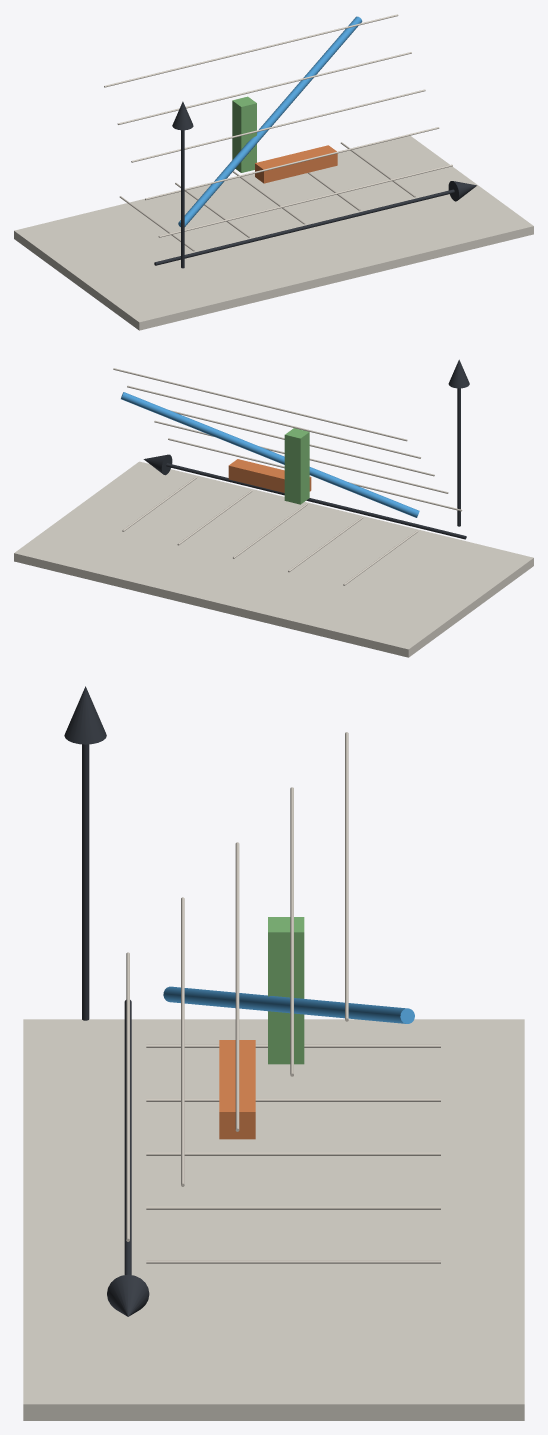
File: math-advanced-math-graphs-slope.glb
The picture shows the model from 3 angles, top to bottom: view 1: azimuth 30°, elevation 25°; view 2: azimuth 150°, elevation 25°; view 3: azimuth 270°, elevation 25°; orthographic projection. The views are drawn at different scales.
Visible parts, largest first — view 1: advanced-math-base, positive-slope-line, run-label-bar, rise-label-bar, math-graphs-slope-x-axis-shaft, math-graphs-slope-horizontal-grid-5, math-graphs-slope-horizontal-grid-3, math-graphs-slope-horizontal-grid-1, math-graphs-slope-horizontal-grid-2, math-graphs-slope-horizontal-grid-4, math-graphs-slope-y-axis-shaft; view 2: advanced-math-base, positive-slope-line, rise-label-bar, run-label-bar, math-graphs-slope-x-axis-shaft, math-graphs-slope-horizontal-grid-4, math-graphs-slope-horizontal-grid-5, math-graphs-slope-horizontal-grid-3, math-graphs-slope-horizontal-grid-1, math-graphs-slope-horizontal-grid-2, math-graphs-slope-y-axis-shaft, math-graphs-slope-y-axis-head; view 3: advanced-math-base, rise-label-bar, positive-slope-line, run-label-bar, math-graphs-slope-y-axis-shaft, math-graphs-slope-x-axis-shaft, math-graphs-slope-horizontal-grid-3, math-graphs-slope-y-axis-head, math-graphs-slope-x-axis-head, math-graphs-slope-vertical-grid-4, math-graphs-slope-vertical-grid-5, math-graphs-slope-vertical-grid-3 (+6 smaller).
Part boxes in pixels (x1=…): advanced-math-base: x1=14, y1=135, x2=533, y2=330; positive-slope-line: x1=178, y1=16, x2=362, y2=226; run-label-bar: x1=255, y1=145, x2=337, y2=183; rise-label-bar: x1=232, y1=96, x2=256, y2=172; math-graphs-slope-x-axis-shaft: x1=154, y1=189, x2=454, y2=265; math-graphs-slope-horizontal-grid-5: x1=104, y1=14, x2=398, y2=87; math-graphs-slope-horizontal-grid-3: x1=131, y1=89, x2=425, y2=162; math-graphs-slope-horizontal-grid-1: x1=158, y1=164, x2=452, y2=237; math-graphs-slope-horizontal-grid-2: x1=145, y1=127, x2=439, y2=200; math-graphs-slope-horizontal-grid-4: x1=117, y1=52, x2=411, y2=124; math-graphs-slope-y-axis-shaft: x1=181, y1=130, x2=184, y2=268; advanced-math-base: x1=14, y1=461, x2=533, y2=657; positive-slope-line: x1=121, y1=392, x2=419, y2=517; rise-label-bar: x1=284, y1=428, x2=309, y2=504; run-label-bar: x1=228, y1=459, x2=311, y2=492; math-graphs-slope-x-axis-shaft: x1=166, y1=463, x2=466, y2=539; math-graphs-slope-horizontal-grid-4: x1=127, y1=385, x2=420, y2=458; math-graphs-slope-horizontal-grid-5: x1=113, y1=368, x2=407, y2=441; math-graphs-slope-horizontal-grid-3: x1=169, y1=410, x2=434, y2=476; math-graphs-slope-horizontal-grid-1: x1=168, y1=438, x2=462, y2=511; math-graphs-slope-horizontal-grid-2: x1=154, y1=420, x2=448, y2=493; math-graphs-slope-y-axis-shaft: x1=457, y1=388, x2=460, y2=526; math-graphs-slope-y-axis-head: x1=448, y1=359, x2=469, y2=388; advanced-math-base: x1=23, y1=1019, x2=524, y2=1420; rise-label-bar: x1=268, y1=917, x2=304, y2=1064; positive-slope-line: x1=163, y1=986, x2=414, y2=1023; run-label-bar: x1=219, y1=1040, x2=255, y2=1139; math-graphs-slope-y-axis-shaft: x1=82, y1=744, x2=89, y2=1020; math-graphs-slope-x-axis-shaft: x1=124, y1=1000, x2=131, y2=1274; math-graphs-slope-horizontal-grid-3: x1=235, y1=842, x2=239, y2=1131; math-graphs-slope-y-axis-head: x1=64, y1=686, x2=106, y2=744; math-graphs-slope-x-axis-head: x1=107, y1=1274, x2=149, y2=1316; math-graphs-slope-vertical-grid-4: x1=146, y1=1206, x2=440, y2=1209; math-graphs-slope-vertical-grid-5: x1=146, y1=1260, x2=440, y2=1263; math-graphs-slope-vertical-grid-3: x1=146, y1=1152, x2=440, y2=1155.
Size of what is drawn, in the model's own units: 3 by 1.48 by 1.65.
